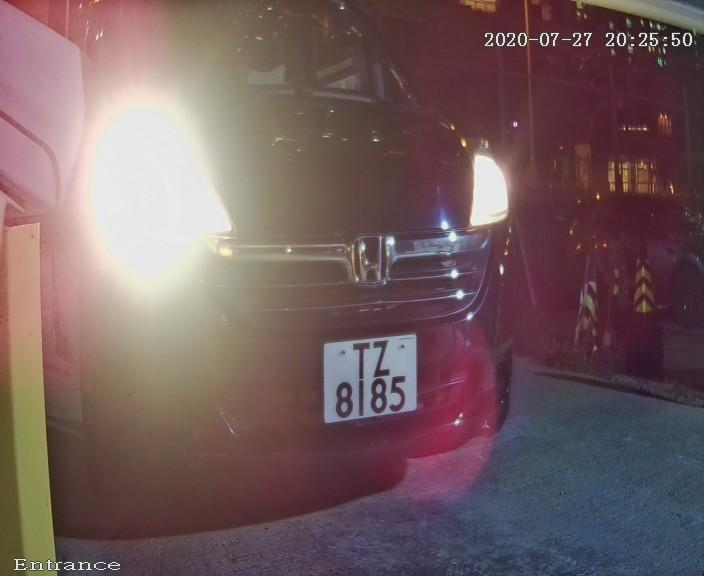privatecar: (51, 1, 573, 517)
